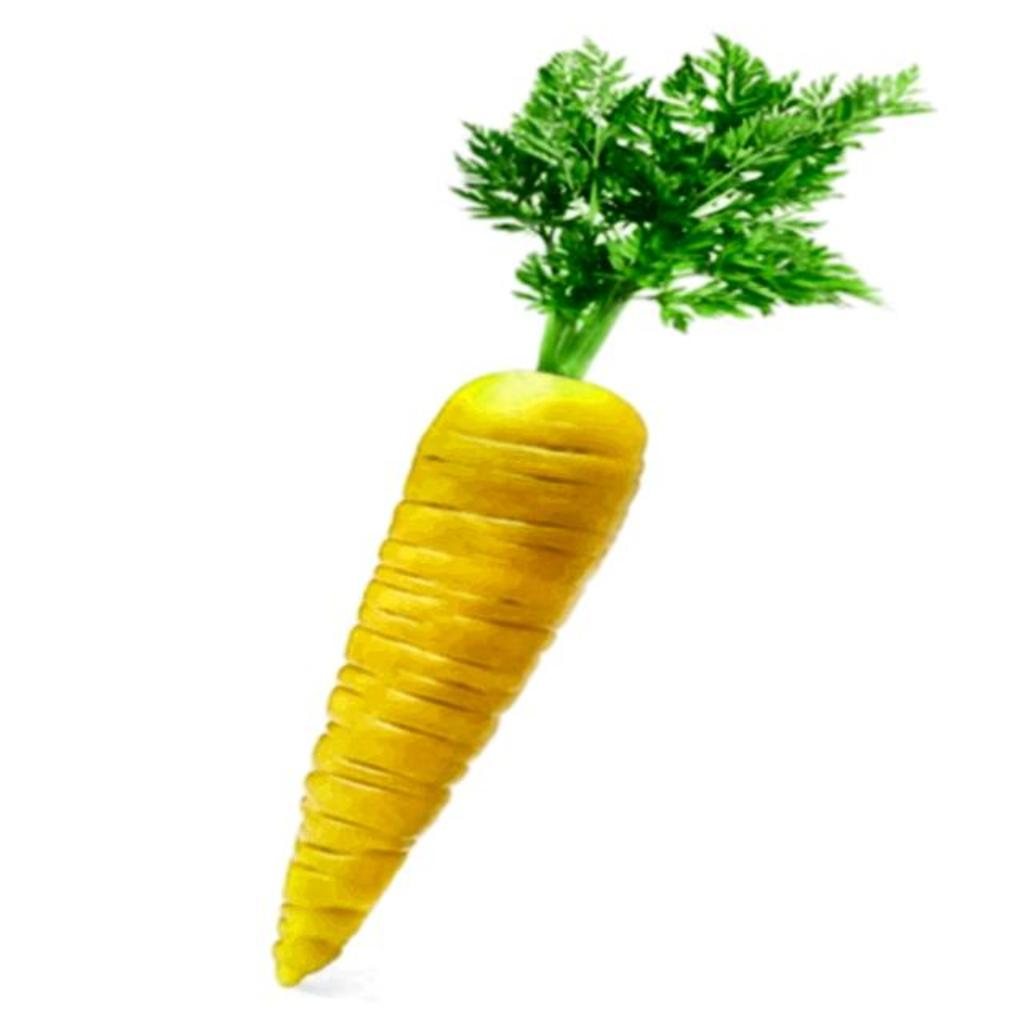carrot: (274, 38, 926, 985)
